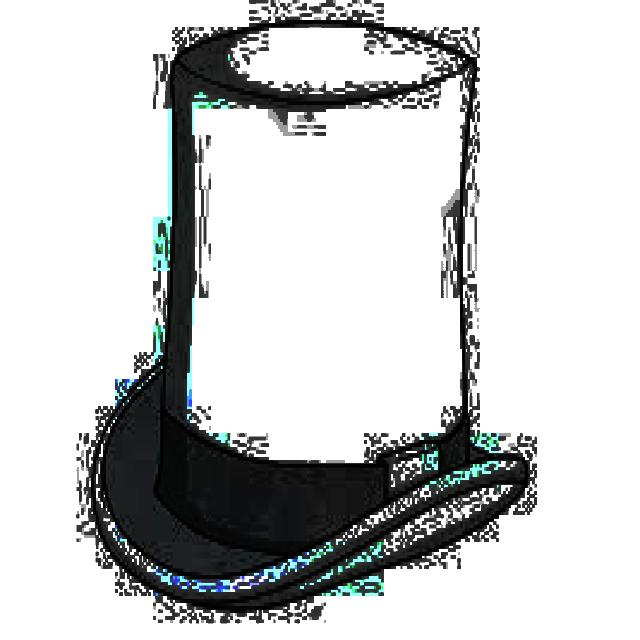TOPI: (88, 10, 530, 613)
